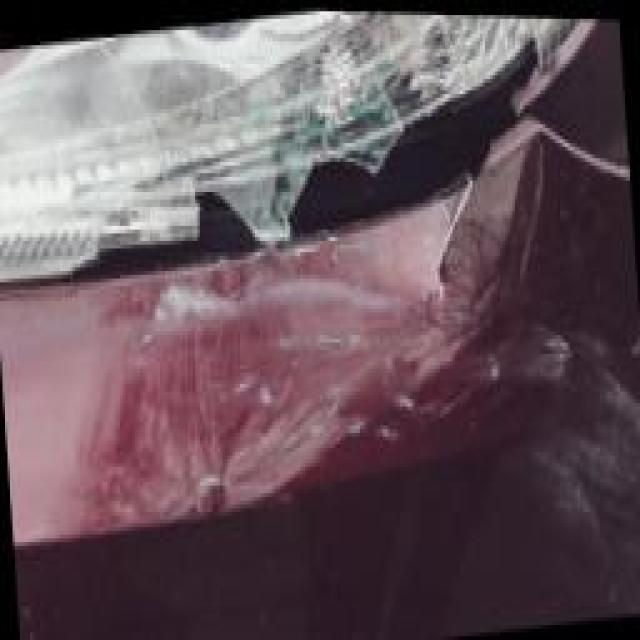Bumper: (0, 108, 640, 640)
Light: (0, 8, 609, 279)
